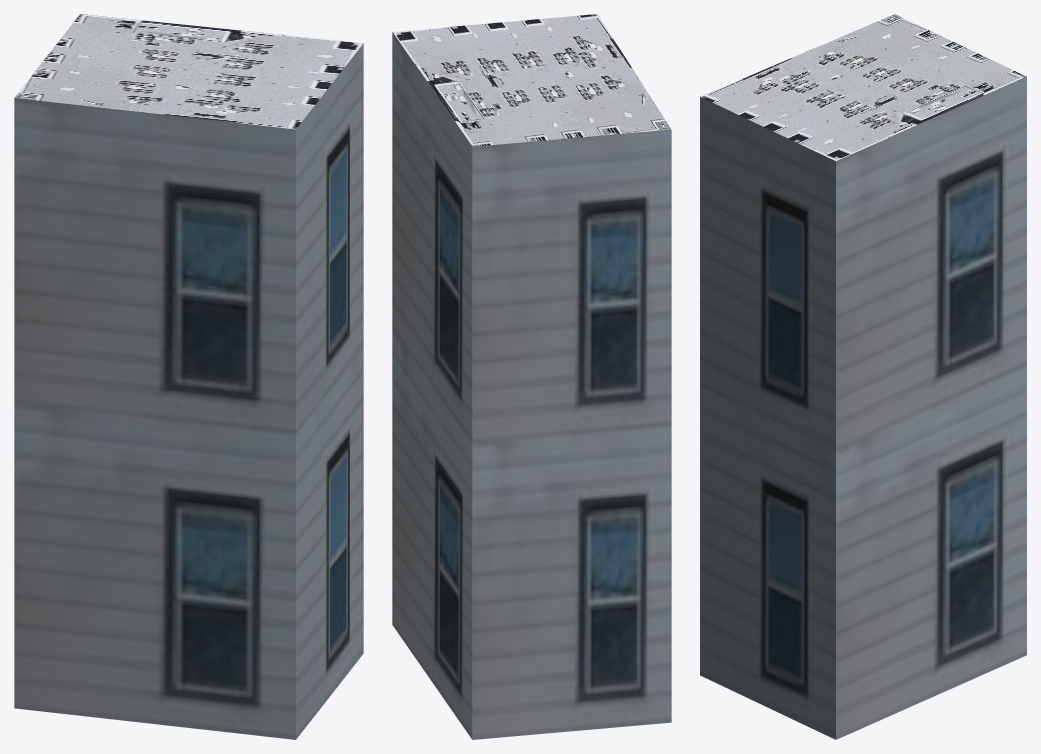
The model's file is ResTex__4528.fbx.
3 views of the same model, side by side, from view 1: azimuth 30°, elevation 25°; view 2: azimuth 150°, elevation 25°; view 3: azimuth 270°, elevation 25° (orthographic). The views are drawn at different scales.
Parts seen in each view (by area): view 1: CityEngineMaterial_18_m, CityEngineMaterial_8_m; view 2: CityEngineMaterial_18_m, CityEngineMaterial_8_m; view 3: CityEngineMaterial_18_m, CityEngineMaterial_8_m.
Part boxes in pixels (x1,y1,x2,y2): CityEngineMaterial_18_m: [14, 43, 363, 739]; CityEngineMaterial_8_m: [14, 14, 363, 129]; CityEngineMaterial_18_m: [392, 32, 671, 739]; CityEngineMaterial_8_m: [393, 14, 671, 146]; CityEngineMaterial_18_m: [700, 76, 1026, 739]; CityEngineMaterial_8_m: [700, 14, 1026, 160].
Bounding box in the file's own units: 3.27 × 6 × 3.07.
2 materials, 2 textured.
